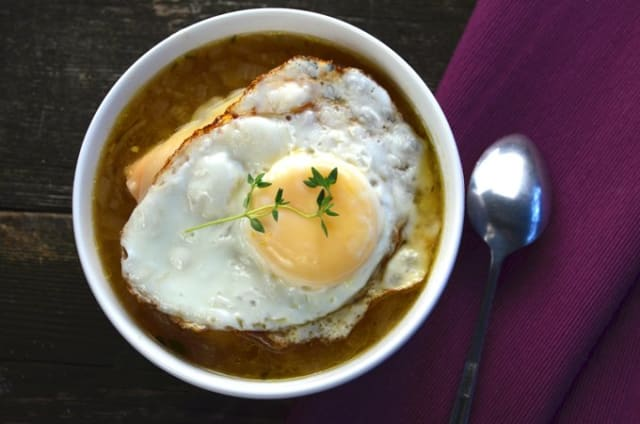fried egg: (107, 73, 432, 335)
